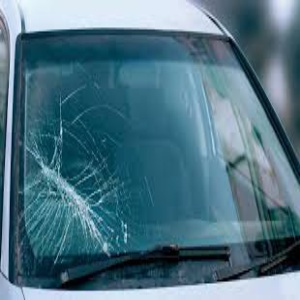front_windshield_glass: (24, 60, 282, 248)
